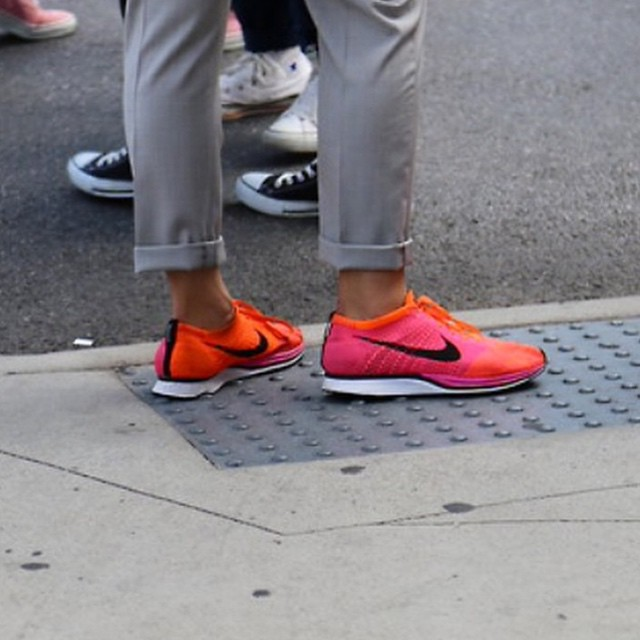sneaker: (313, 239, 561, 408), (128, 243, 315, 415)
